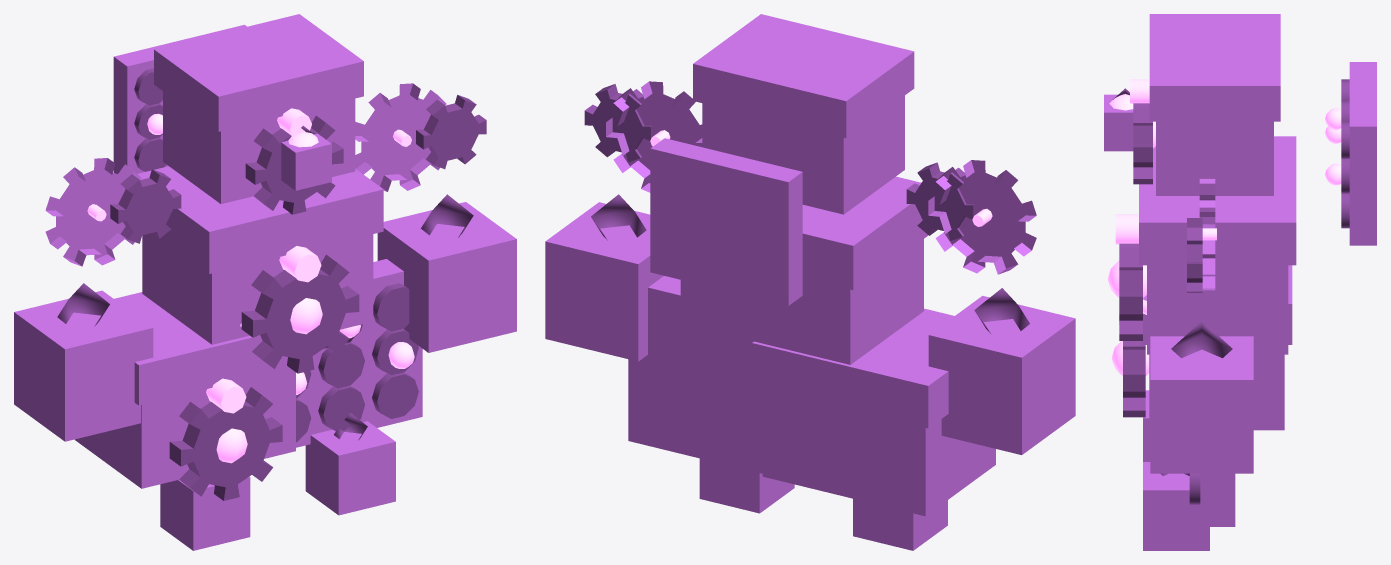
Rendered from golem_128.glb.
The picture shows the model from 3 angles, left to right: view 1: azimuth 30°, elevation 25°; view 2: azimuth 150°, elevation 25°; view 3: azimuth 270°, elevation 25°; orthographic projection. The views are drawn at different scales.
Visible parts, largest first — view 1: Body, Detail, Glow; view 2: Body, Detail; view 3: Body, Detail, Glow.
Boxes of the visible parts, x1,y1,x2,y2 form: Body: (14,14,516,550); Detail: (57,68,486,500); Glow: (87,108,414,463); Body: (545,14,1075,550); Detail: (584,84,1029,333); Body: (1104,14,1376,550); Detail: (1113,79,1349,504); Glow: (1107,79,1341,375).
Bounding box in the file's own units: 1.39 × 1.31 × 0.718.
